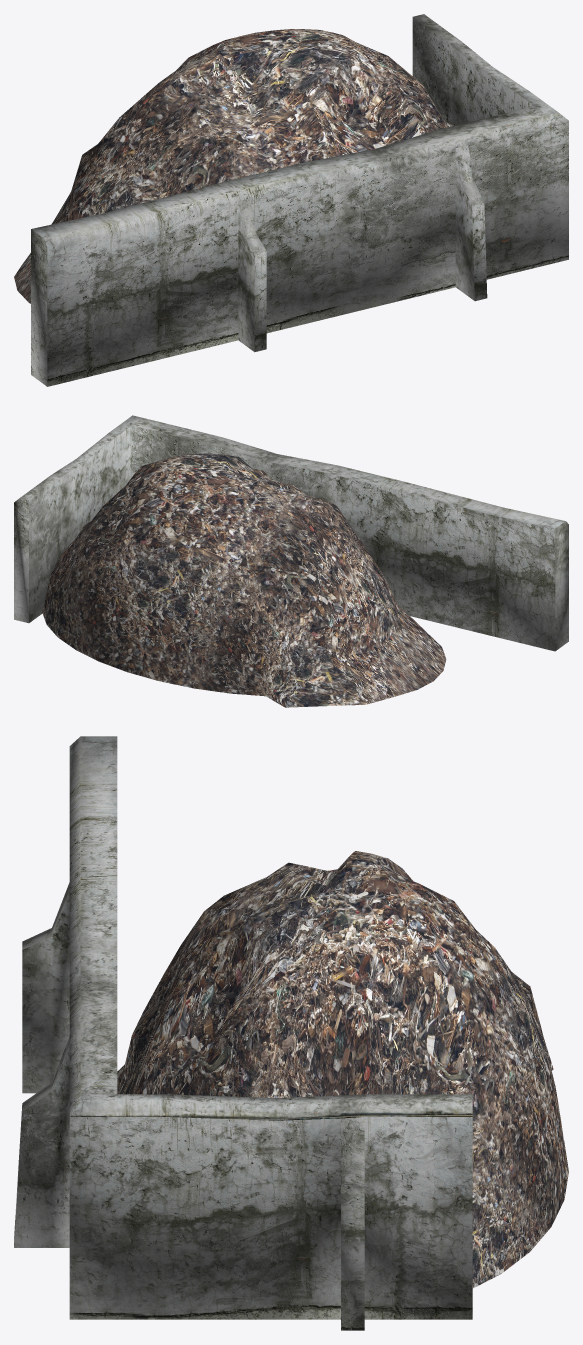
Rendered from shanty8.fbx.
3 views of the same model, one above another, from view 1: azimuth 30°, elevation 25°; view 2: azimuth 150°, elevation 25°; view 3: azimuth 270°, elevation 25° (orthographic). The views are drawn at different scales.
Parts seen in each view (by area): view 1: U3DMesh; view 2: U3DMesh; view 3: U3DMesh.
Boxes of the visible parts, x1,y1,x2,y2 form: U3DMesh: [14, 14, 568, 386]; U3DMesh: [14, 415, 568, 707]; U3DMesh: [14, 736, 568, 1330].
Bounding box in the file's own units: 335 × 118 × 206.
